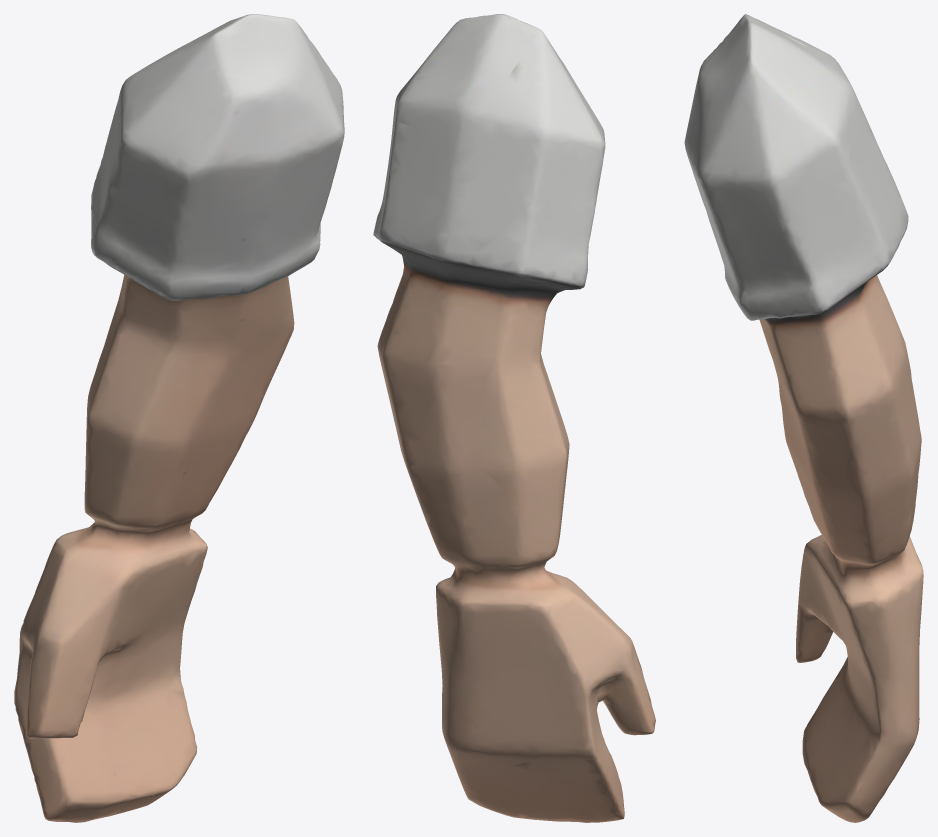
File: turistaBrazoDer.obj
3 views of the same model, side by side, from view 1: azimuth 30°, elevation 25°; view 2: azimuth 150°, elevation 25°; view 3: azimuth 270°, elevation 25° (orthographic). The views are drawn at different scales.
Parts seen in each view (by area): view 1: input.004; view 2: input.004; view 3: input.004.
Boxes of the visible parts, x1,y1,x2,y2 form: input.004: (14,14,344,822); input.004: (373,14,655,822); input.004: (684,14,923,822).
Bounding box in the file's own units: 0.0306 × 0.0803 × 0.0211.
Materials: 1 (1 with a texture image).
